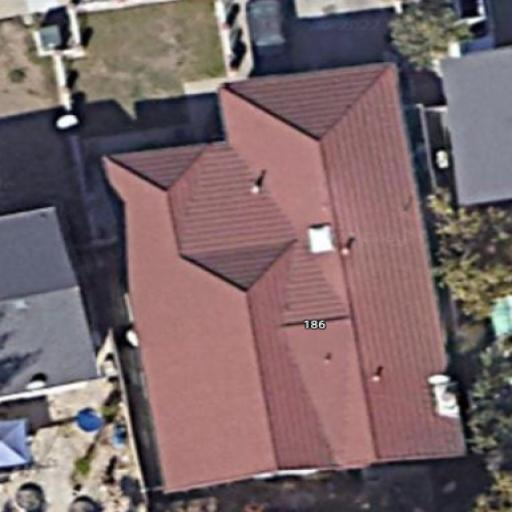Slope-Roof: (104, 64, 465, 492)
